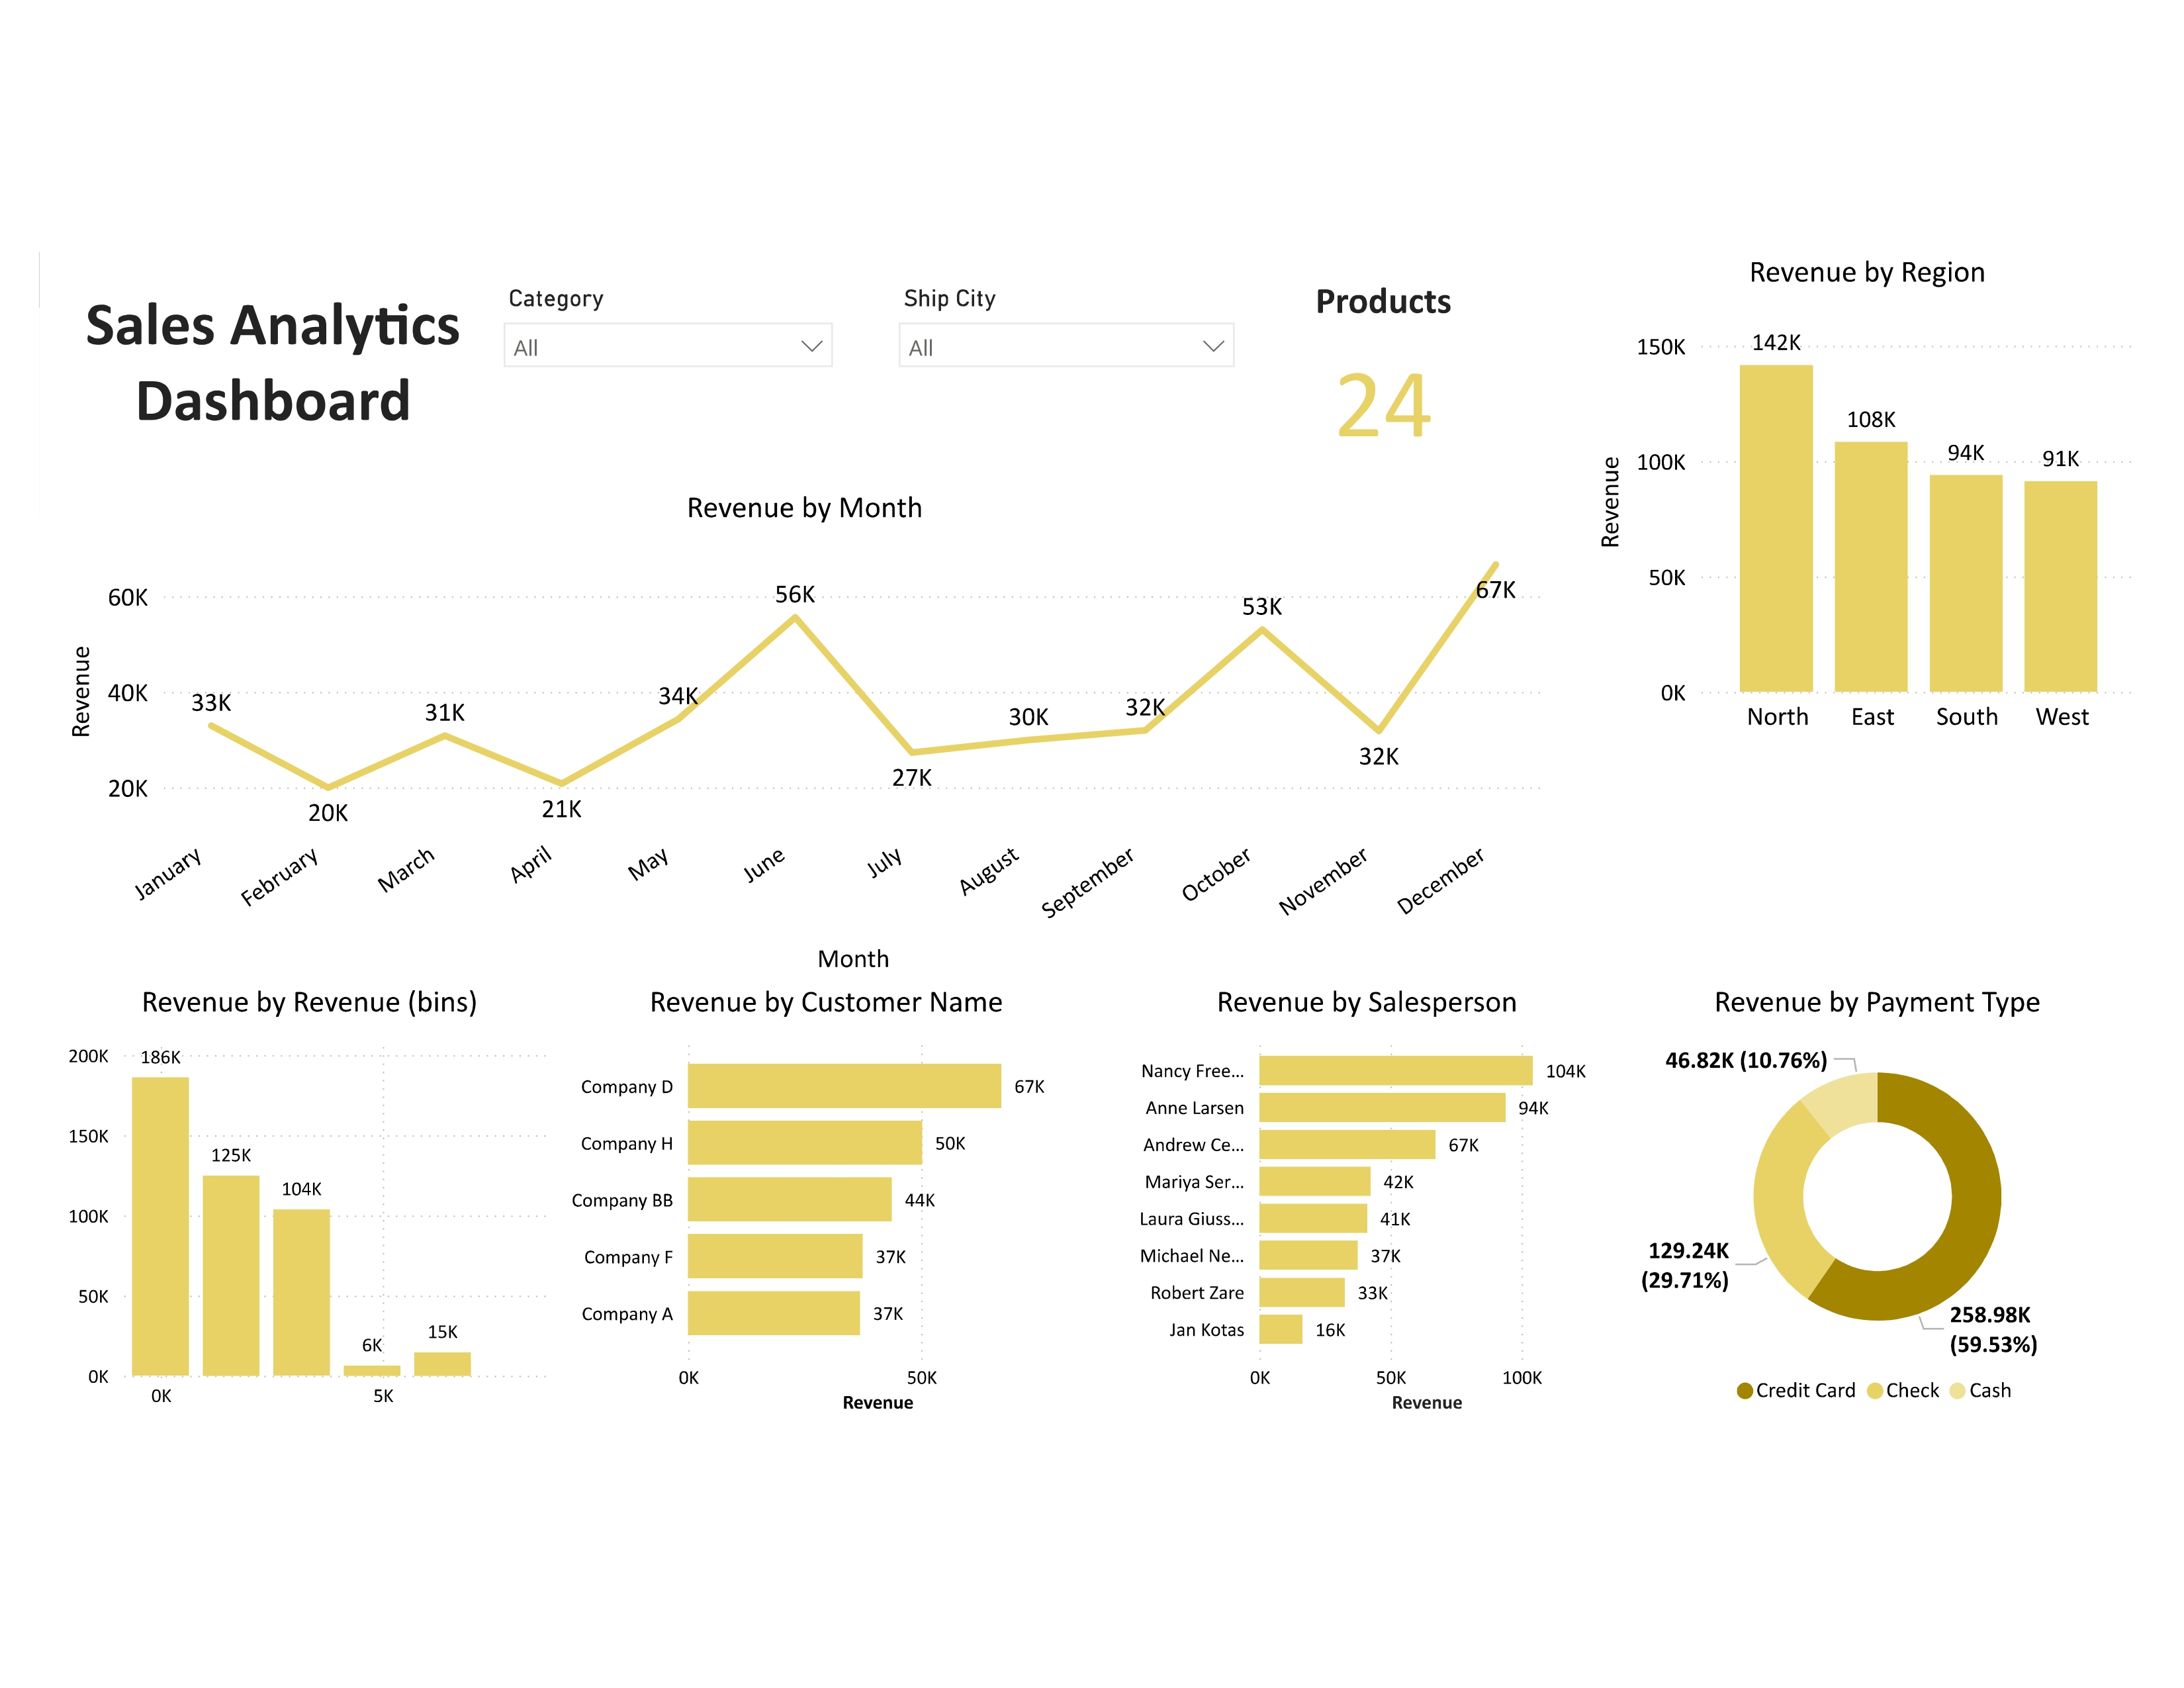

Layout of this report page (visuals, bound fields, positions):
{"tool":"powerbi","page":{"name":"Page 1","canvas":[1280,720],"ordinal":0},"visuals":[{"type":"cardVisual","title":"Products","fields":{"Data":["orders.Product Name"]},"box":[736.1,14.6,161,111.2],"z":0},{"type":"cardVisual","title":"Category","fields":{"Data":["orders.Category"]},"box":[917.6,14.6,166.8,111.2],"z":1000},{"type":"cardVisual","title":"Ship States","fields":{"Data":["orders.Ship State"]},"box":[1096.1,14.6,174.1,111.2],"z":2000},{"type":"slicer","fields":{"Values":["orders.Ship City"]},"box":[512.2,14.6,223.9,96.6],"z":3000},{"type":"slicer","fields":{"Values":["orders.Category"]},"box":[272.2,14.6,219.5,96.6],"z":4000},{"type":"lineChart","title":"Revenue by Month","fields":{"Category":["orders.Order Date.Variation.Date Hierarchy.Month"],"Y":["orders.Revenue"]},"box":[11.7,143.4,905.9,300],"z":5000},{"type":"columnChart","title":"Revenue by Region","fields":{"Category":["orders.Region"],"Y":["orders.Revenue"]},"box":[930.7,143.4,339.5,300],"z":6000},{"type":"donutChart","title":"Revenue by Payment Type","fields":{"Category":["orders.Payment Type"],"Y":["orders.Revenue"]},"box":[962.9,443.4,307.3,266.3],"z":7000},{"type":"barChart","title":"Revenue by Salesperson","fields":{"Category":["orders.Salesperson"],"Y":["orders.Revenue"]},"box":[649.8,443.4,313.2,266.3],"z":8000},{"type":"barChart","title":"Revenue by Customer Name","fields":{"Category":["orders.Customer Name"],"Y":["orders.Revenue"]},"box":[316.1,443.4,323.4,266.3],"z":9000},{"type":"clusteredColumnChart","title":"Revenue by Revenue (bins)","fields":{"Category":["orders.Revenue (bins)"],"Y":["orders.Revenue"]},"box":[11.7,443.4,304.4,266.3],"z":10000},{"type":"textbox","box":[11.7,14.6,260.5,128.8],"z":10001}]}

Visuals, with their boxes on the page's 1280x720 design canvas (x1, y1, x2, y2). These are canvas units, not pixel positions in the 2184x1688 screenshot, which may show the page scaled, cropped or inside an application window:
"Products" cardVisual: 736 15 897 126
"Category" cardVisual: 918 15 1084 126
"Ship States" cardVisual: 1096 15 1270 126
slicer - orders.Ship City: 512 15 736 111
slicer - orders.Category: 272 15 492 111
"Revenue by Month" lineChart: 12 143 918 443
"Revenue by Region" columnChart: 931 143 1270 443
"Revenue by Payment Type" donutChart: 963 443 1270 710
"Revenue by Salesperson" barChart: 650 443 963 710
"Revenue by Customer Name" barChart: 316 443 640 710
"Revenue by Revenue (bins)" clusteredColumnChart: 12 443 316 710
textbox: 12 15 272 143
